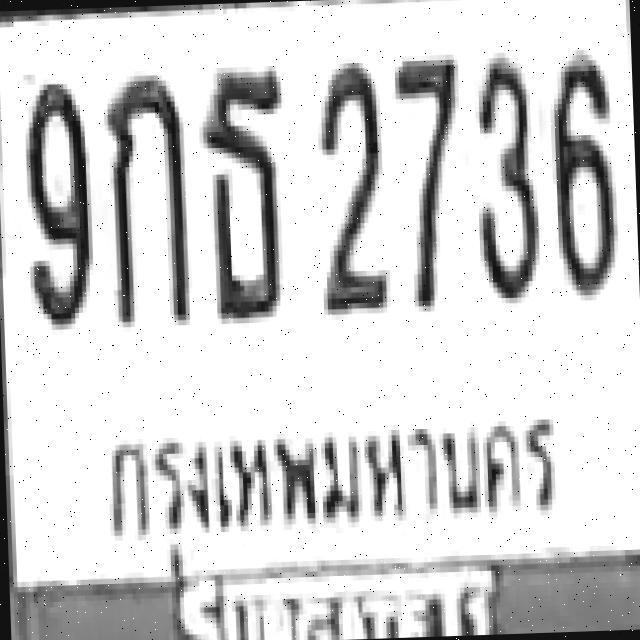10GorGai: (102, 72, 190, 324)
2: (311, 56, 387, 314)
3: (468, 51, 540, 304)
33ThorThong: (196, 65, 288, 318)
6: (548, 52, 616, 298)
7: (390, 56, 466, 309), (392, 54, 463, 286)
9: (19, 77, 91, 325)
Bangkok: (98, 398, 569, 574)
